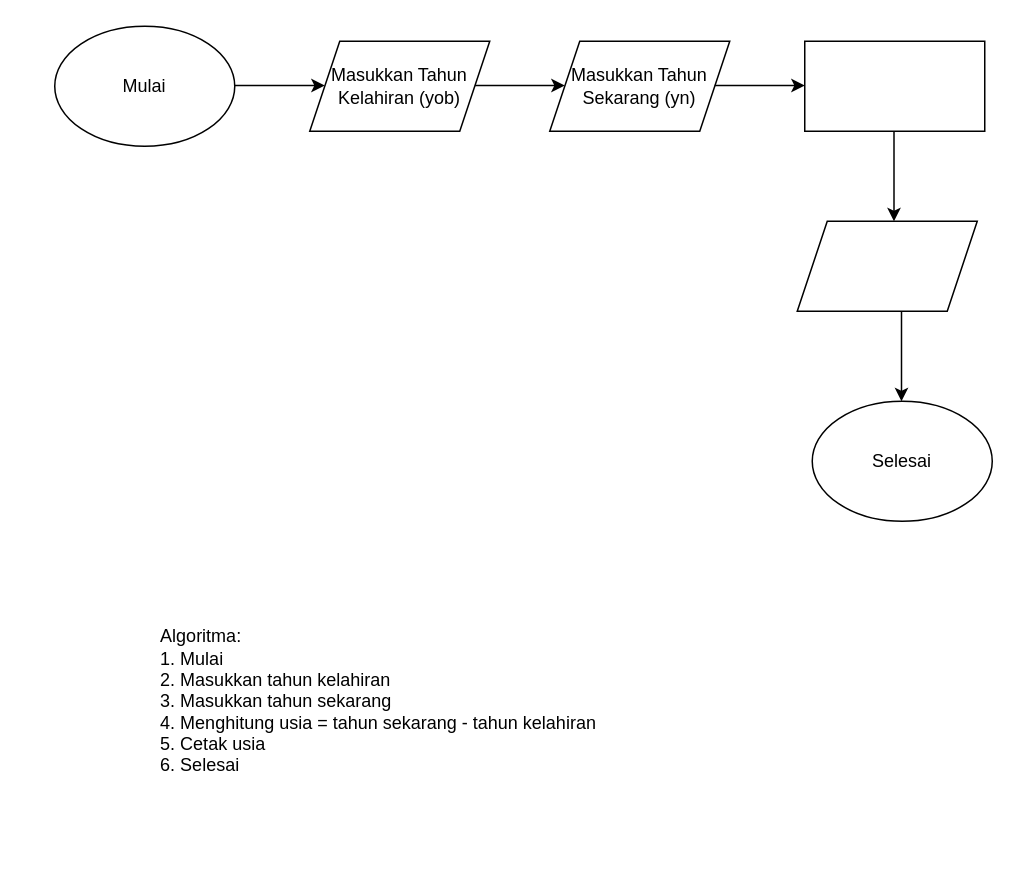
Image size: 1019x893. Some labels were removed from this diagram. Here are the shapes that lost their labels. From the top down, the centre of each, then its label:
At point 894,85: "age=yn-yob".
At point 886,265: "cetak age".
